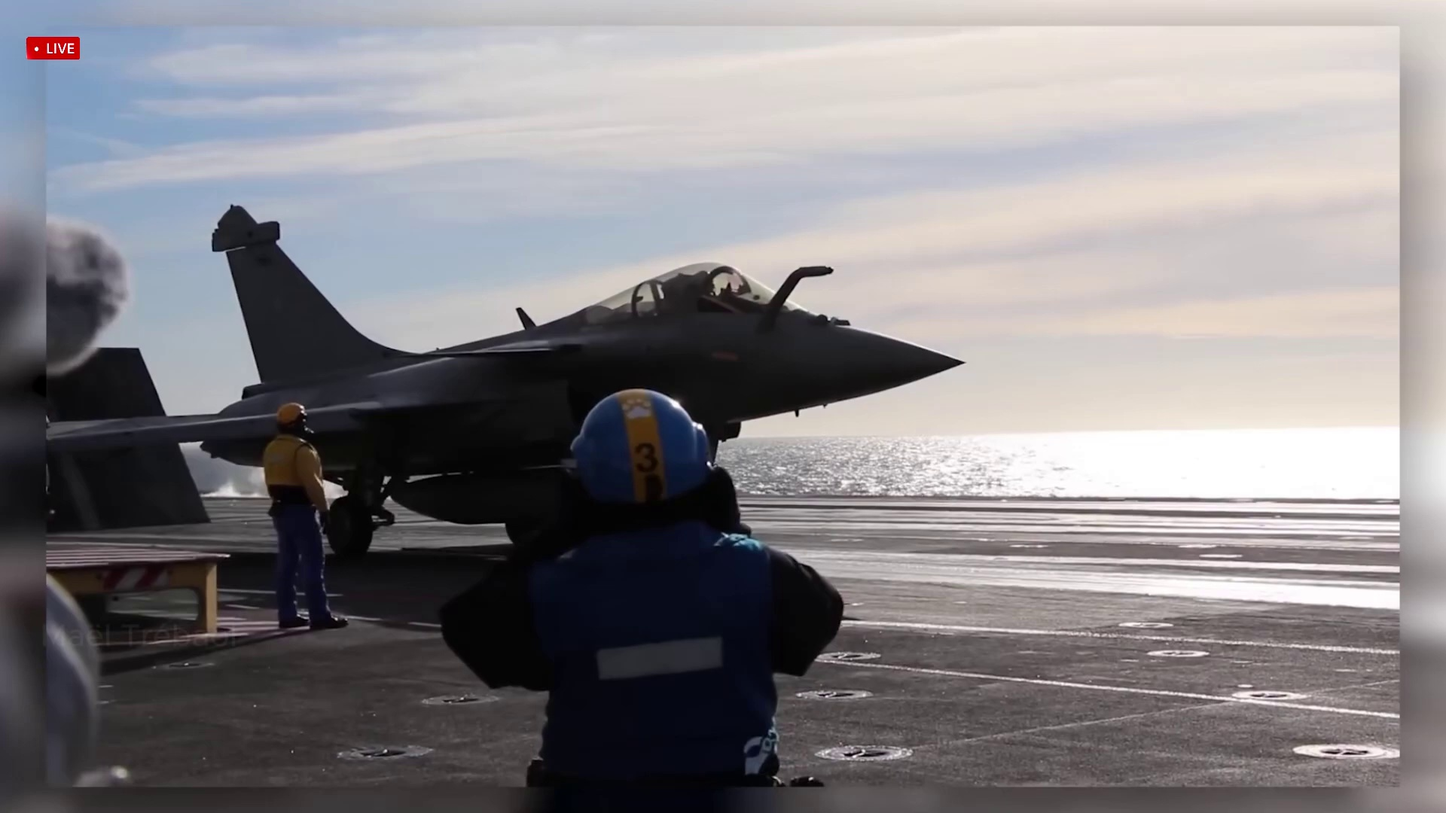Rafale: (54, 211, 948, 559)
